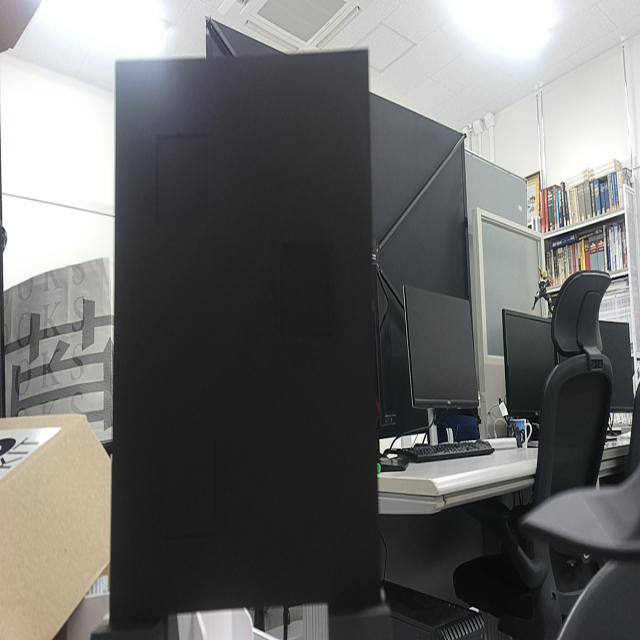Wall: (111, 49, 381, 619)
